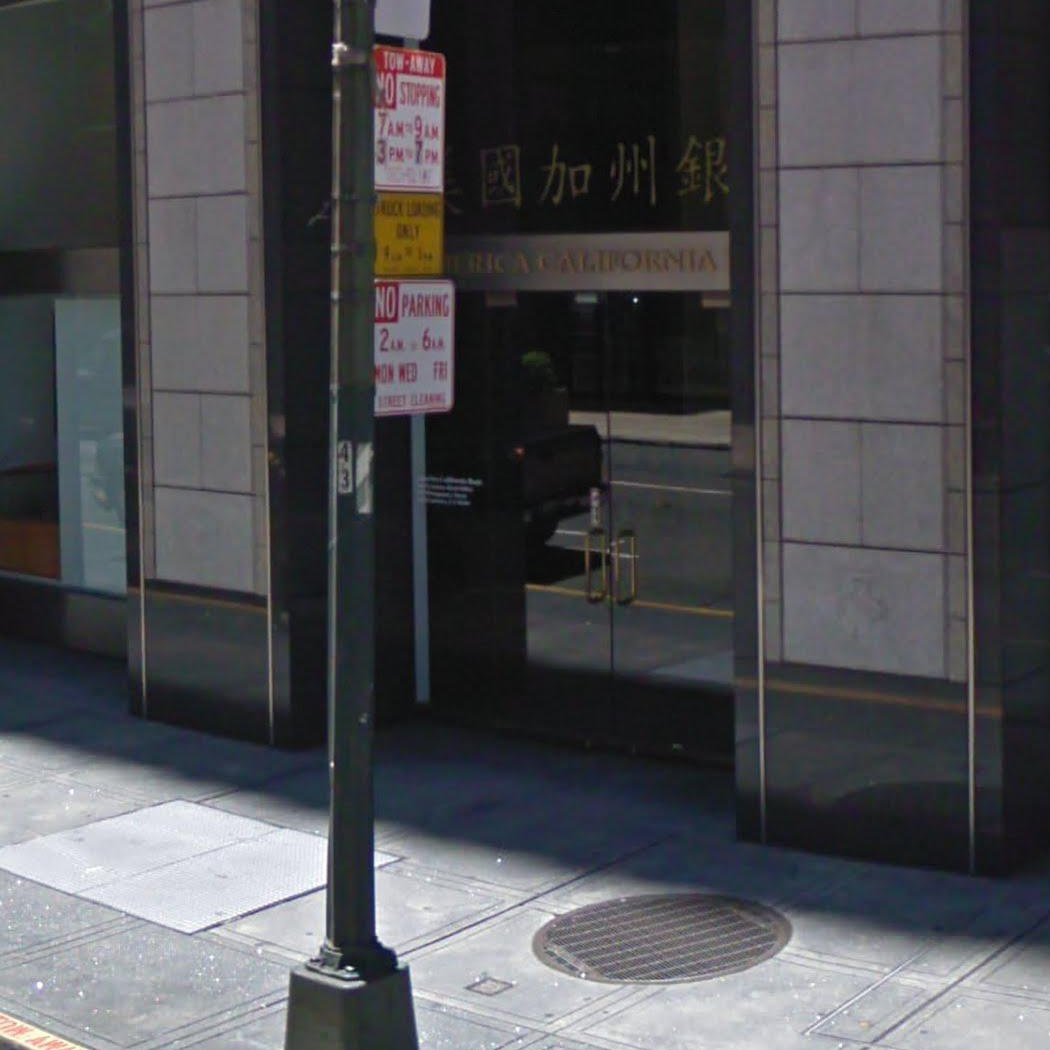No Parking: (371, 276, 456, 418)
